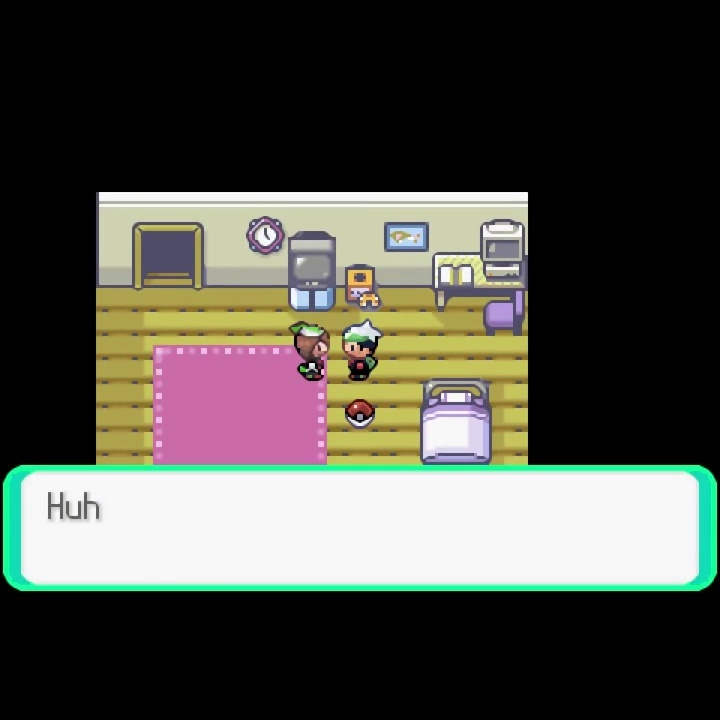agent: (341, 317, 387, 384)
npc: (287, 318, 336, 386)
